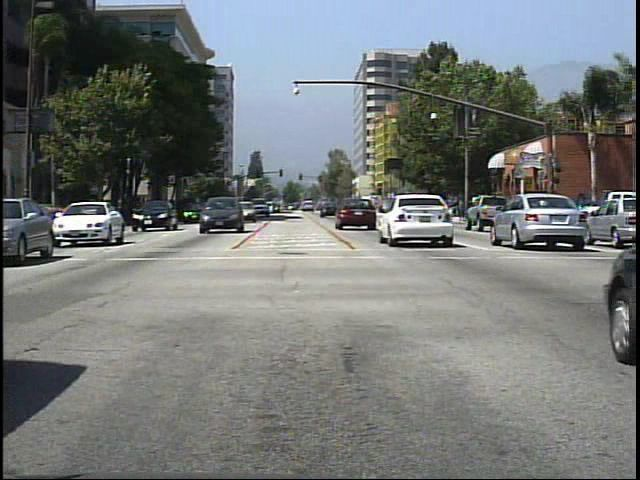person: (493, 189, 511, 224), (531, 193, 549, 228)
